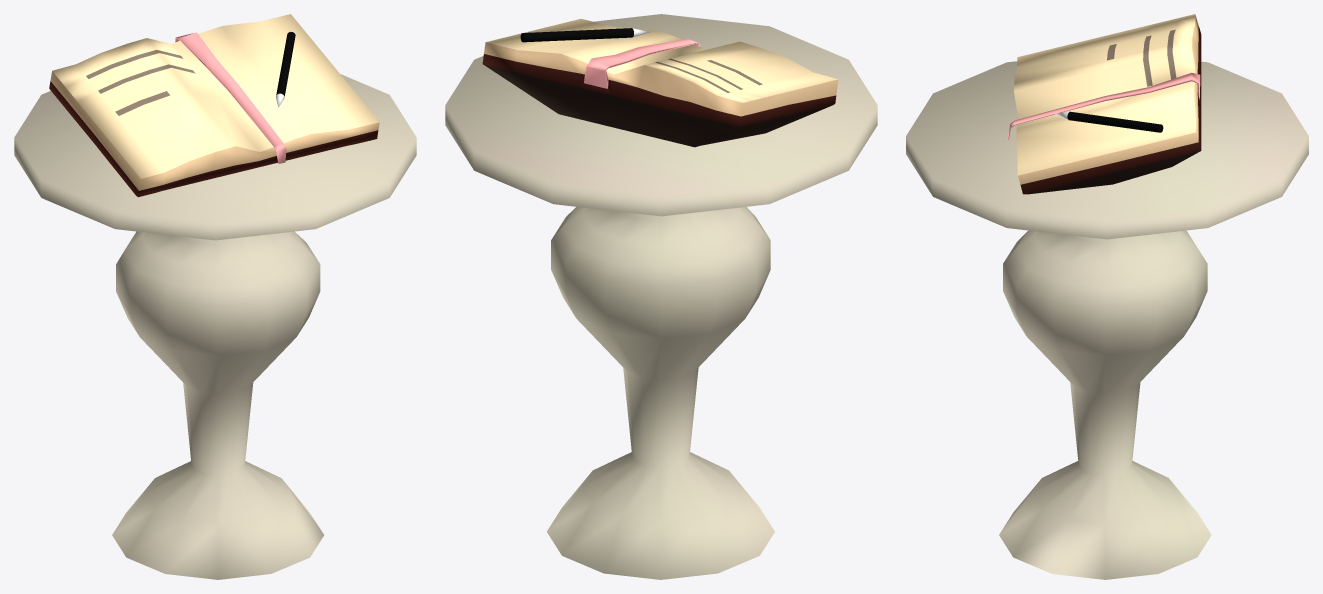
File: GuestbookModern.glb
3 renders of one model, left to right at view 1: azimuth 30°, elevation 25°; view 2: azimuth 150°, elevation 25°; view 3: azimuth 270°, elevation 25°, orthographic. The views are drawn at different scales.
Visible parts, largest first — view 1: Guestbook; view 2: Guestbook; view 3: Guestbook.
Part boxes in pixels (<box>): Guestbook: <box>14,14,416,579</box>; Guestbook: <box>445,14,877,579</box>; Guestbook: <box>906,14,1308,579</box>.
Size of the model in its own units: 0.8743 by 1.13 by 0.8743.
2 materials, 2 textured.
